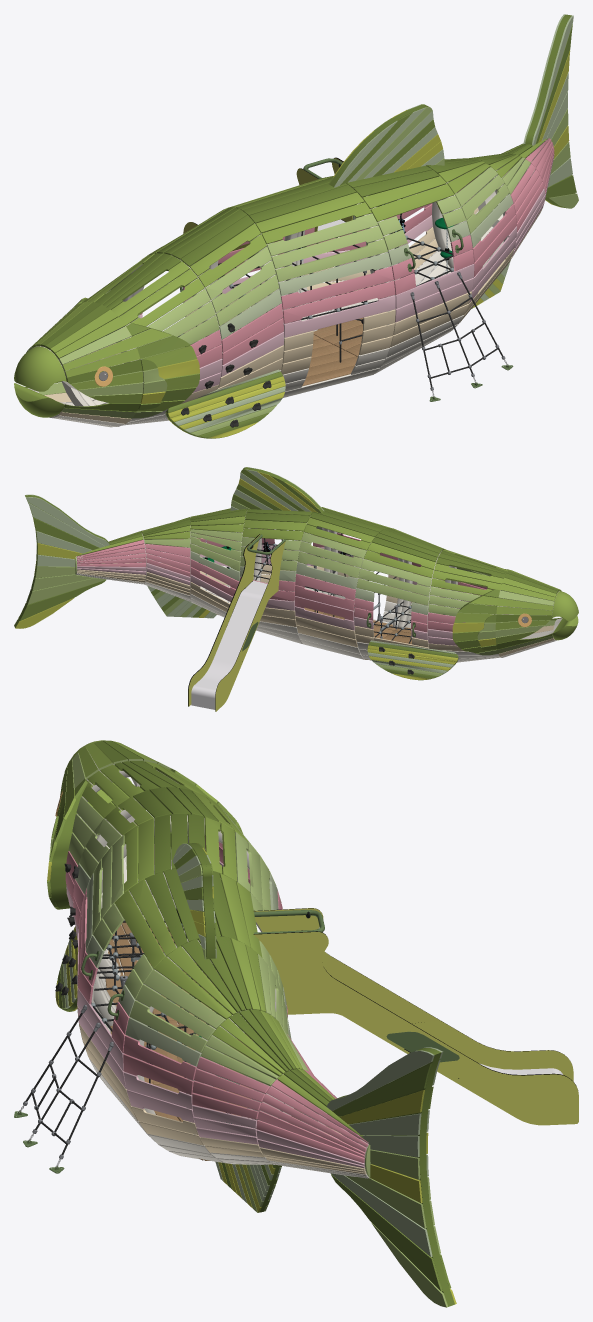
File: rgss-903-p-pink-salmon.glb
3 views of the same model, one above another, from view 1: azimuth 30°, elevation 25°; view 2: azimuth 150°, elevation 25°; view 3: azimuth 270°, elevation 25° (orthographic). The views are drawn at different scales.
Parts seen in each view (by area): view 1: Gövde4; view 2: Gövde4; view 3: Gövde4.
Part boxes in pixels (<box>): Gövde4: <box>14,14,578,438</box>; Gövde4: <box>14,467,578,711</box>; Gövde4: <box>14,740,578,1307</box>.
Bounding box in the file's own units: 8.27 × 2.63 × 4.54.
3 materials, 3 textured.
